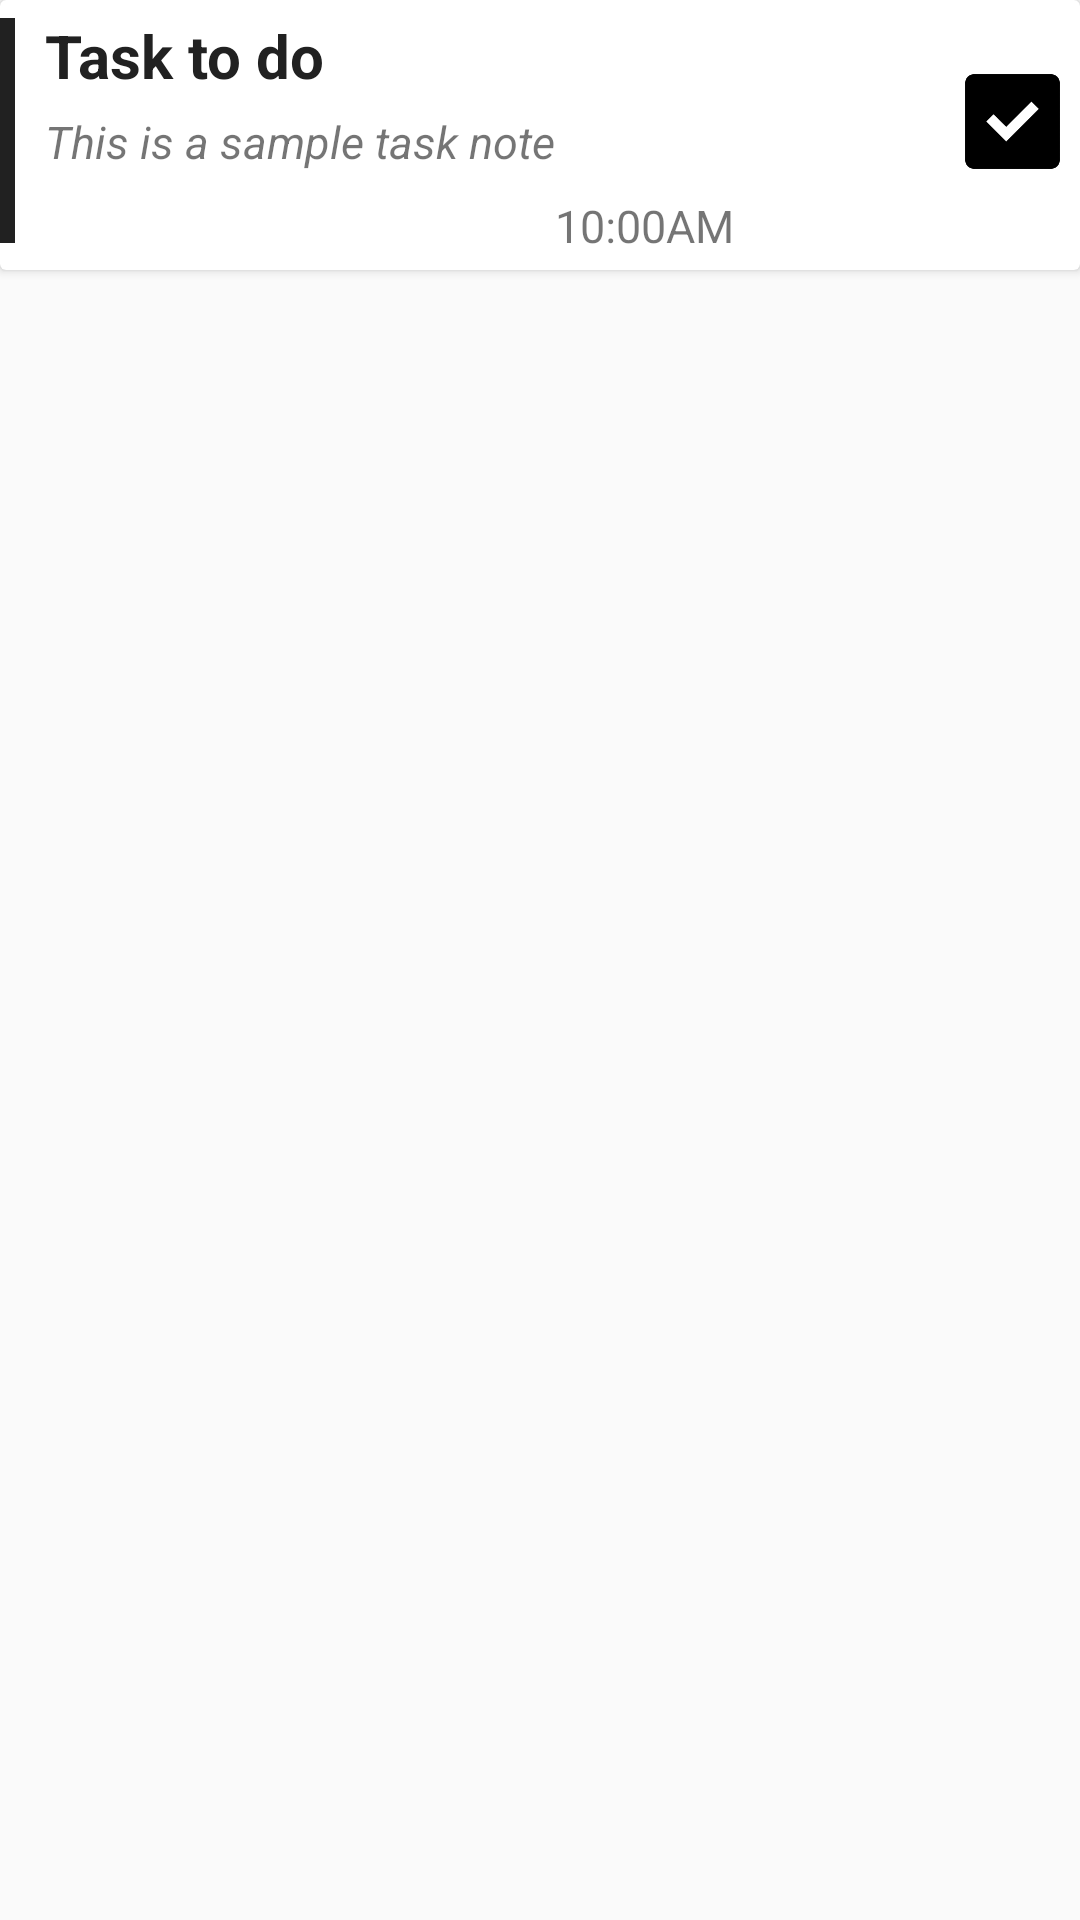

Icons on this 1080x1920 Android screen, each with the point to tap as (x=x, y=y):
check mark: (x=1012, y=121)
